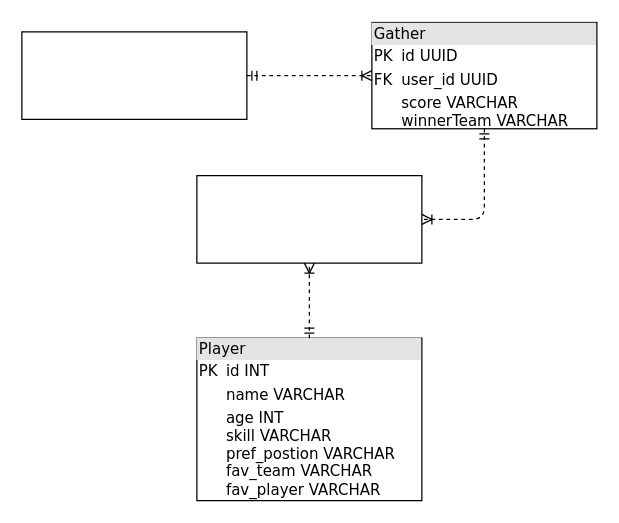
Some shapes in this 619 by 523 pixel diagram are drawn without their labels. The shapes that lost their labels are listed below. From the top down, each one's centre as x and y in pixels, then its label:
(134,75): User PK id UUID username VARCHAR password VARCHAR
(309,218): PlayerGather PK/FK gather_id UUID PK/FK player_id Int team: String
